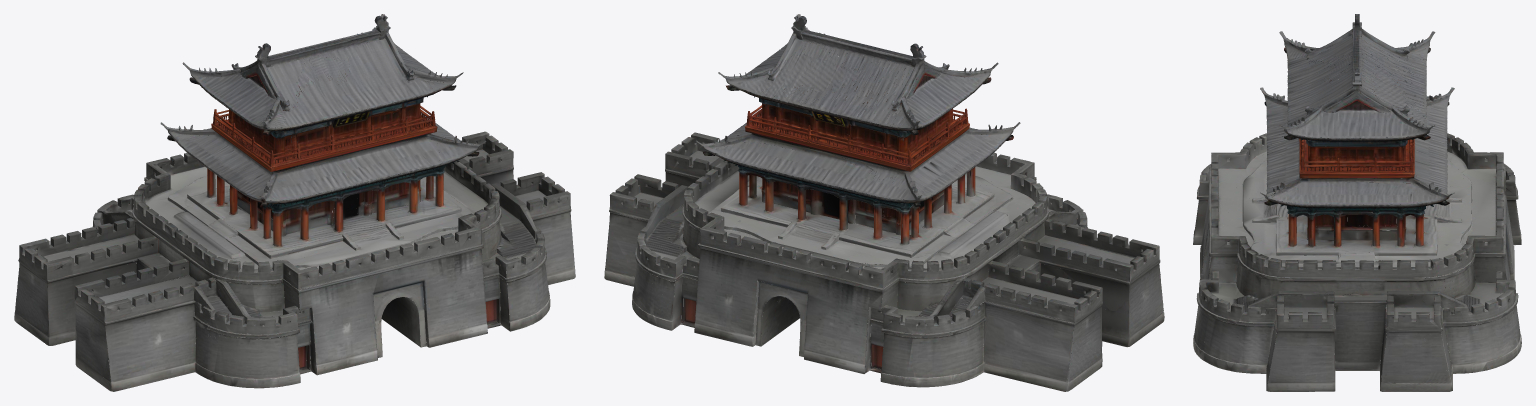
The model's file is lijingmen.glb.
The picture shows the model from 3 angles, left to right: view 1: azimuth 30°, elevation 25°; view 2: azimuth 150°, elevation 25°; view 3: azimuth 270°, elevation 25°; orthographic projection. The views are drawn at different scales.
Visible parts, largest first — view 1: node_0; view 2: node_0; view 3: node_0.
Boxes of the visible parts, x1,y1,x2,y2 form: node_0: (14,14,575,391); node_0: (604,14,1164,391); node_0: (1193,14,1521,391).
Bounding box in the file's own units: 62.02 × 33.45 × 39.38.
Materials: 1 (1 with a texture image).
